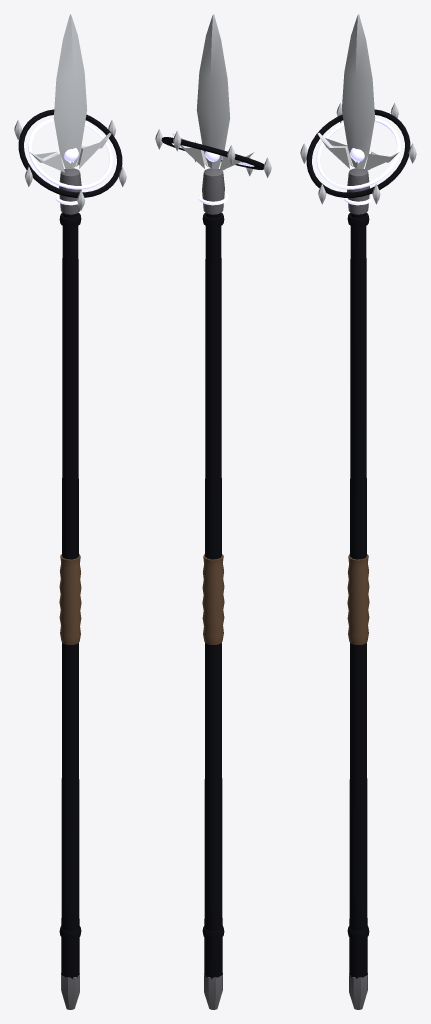
The model's file is esc_w_knight_spear_5.glb.
The picture shows the model from 3 angles, left to right: view 1: azimuth 30°, elevation 25°; view 2: azimuth 150°, elevation 25°; view 3: azimuth 330°, elevation 25°; orthographic projection.
Parts seen in each view (by area): view 1: esc_w_knight_spear_5; view 2: esc_w_knight_spear_5; view 3: esc_w_knight_spear_5.
Part boxes in pixels (x1=…): esc_w_knight_spear_5: x1=14, y1=14, x2=126, y2=1009; esc_w_knight_spear_5: x1=155, y1=14, x2=271, y2=1009; esc_w_knight_spear_5: x1=300, y1=14, x2=416, y2=1009.
Size of the model in its own units: 0.2523 by 2.33 by 0.2166.
